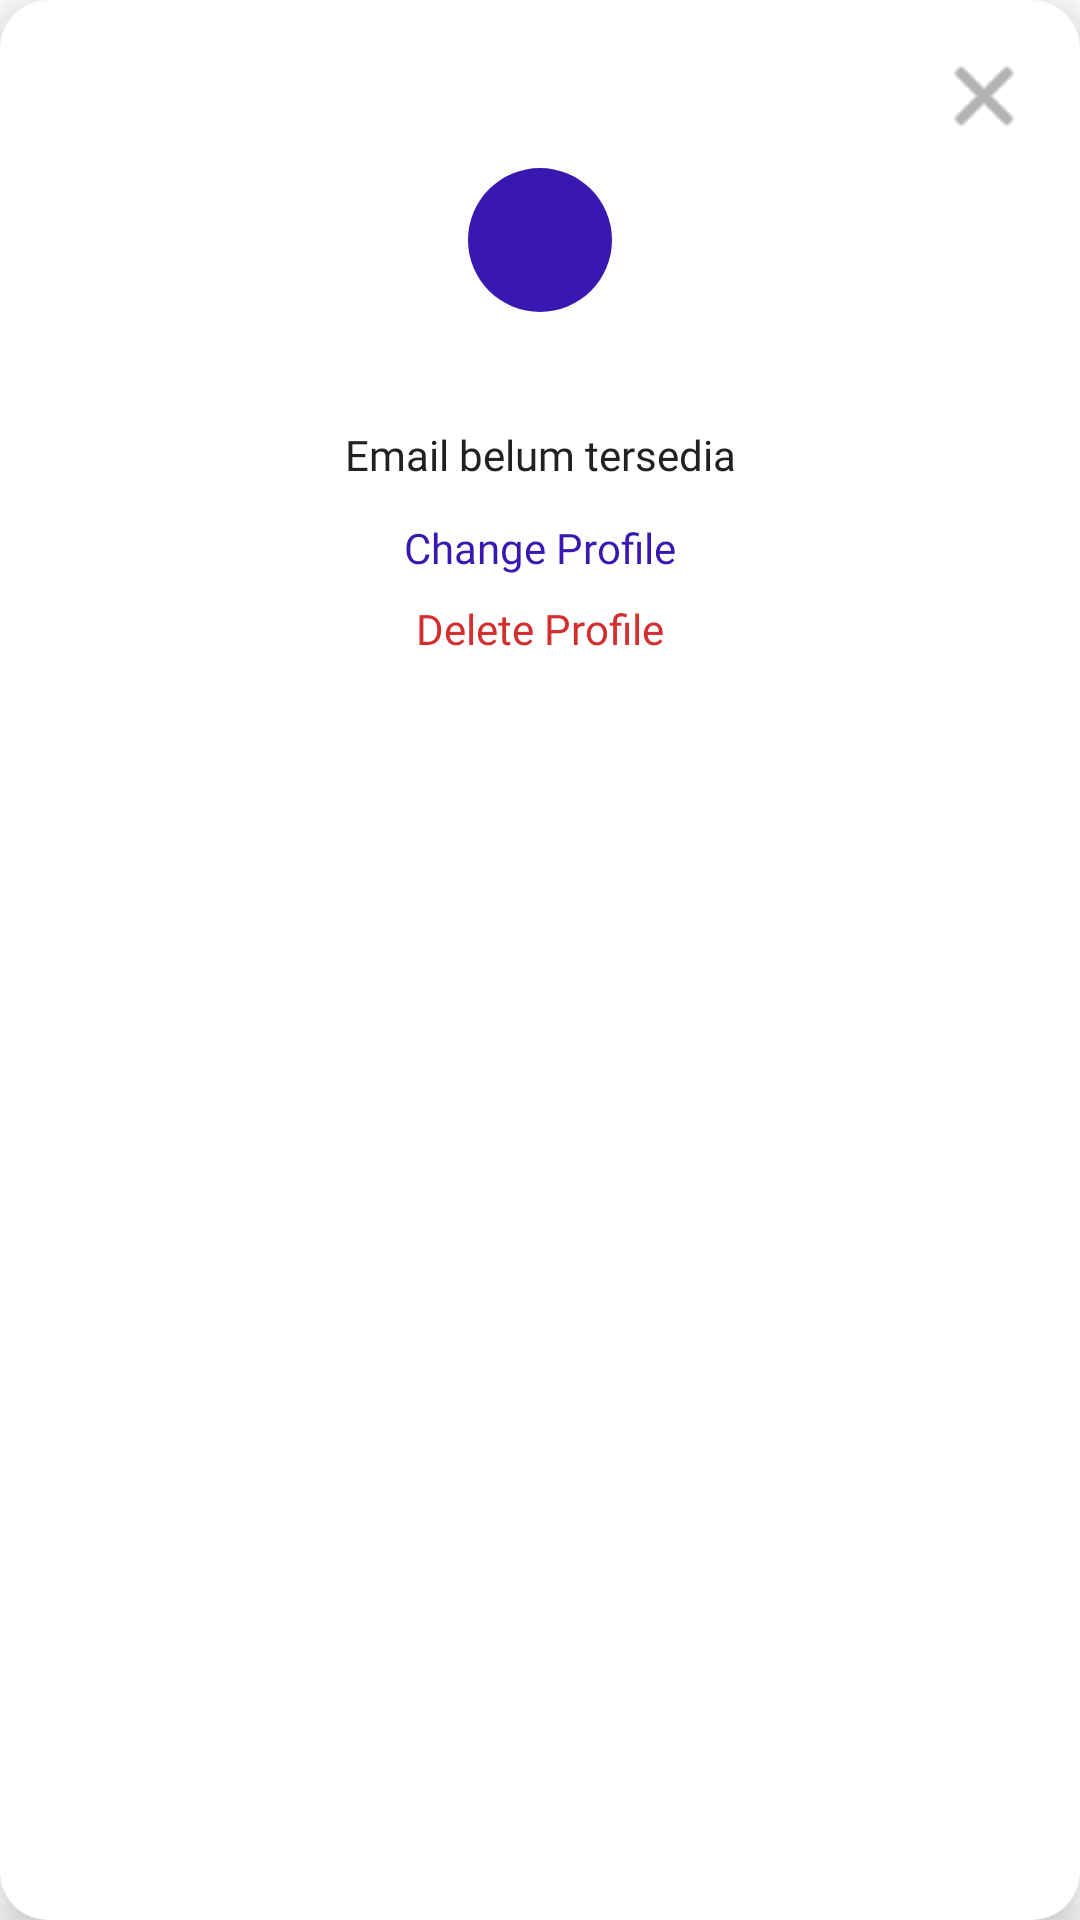

Where icons sit on this 1080 × 1920 app screen, as (x1=x1, y1=y1, x2=x2, y2=y2):
Tutup: (x1=954, y1=66, x2=1014, y2=126)
